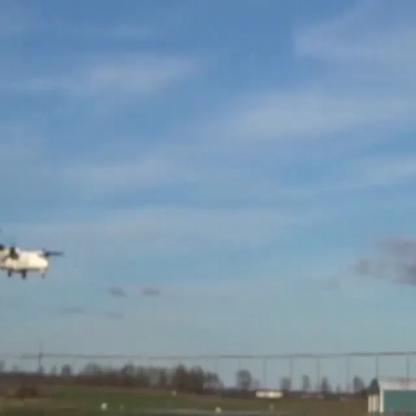CIV_Plane: (0, 233, 65, 285)
